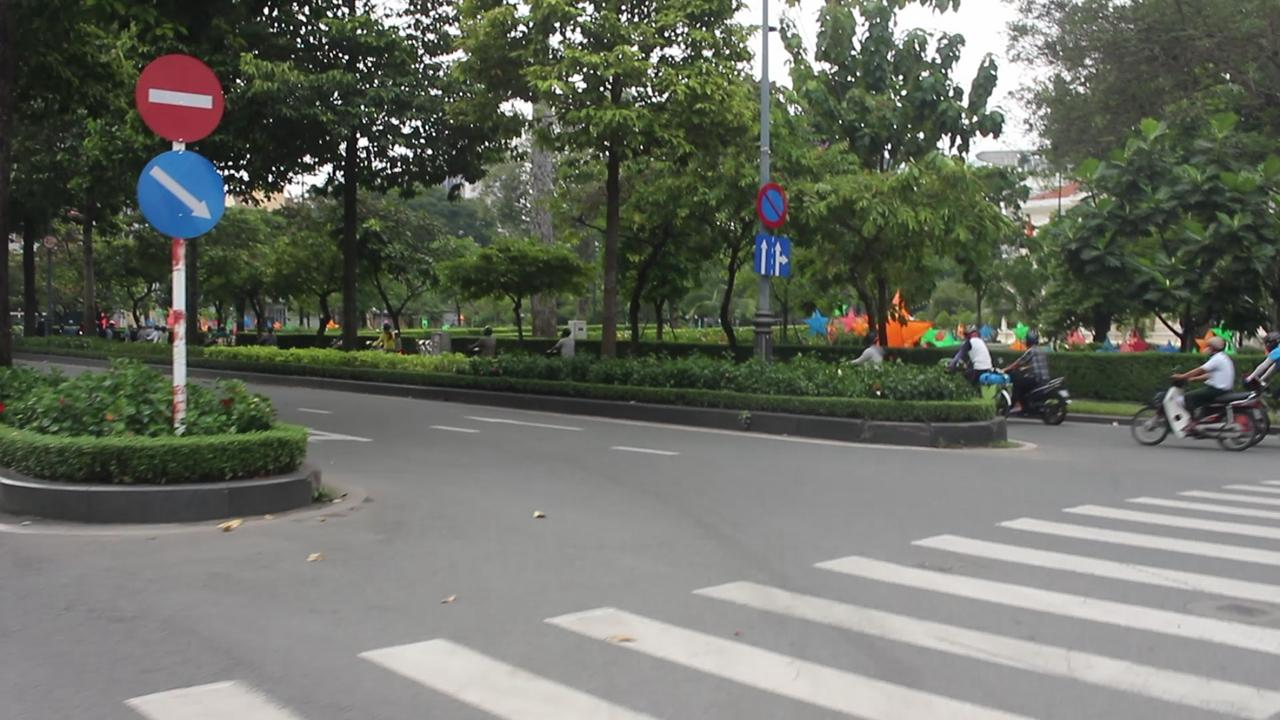DP.135: (138, 52, 219, 139)
P.102: (754, 182, 790, 228)
P.130: (138, 153, 228, 237)
